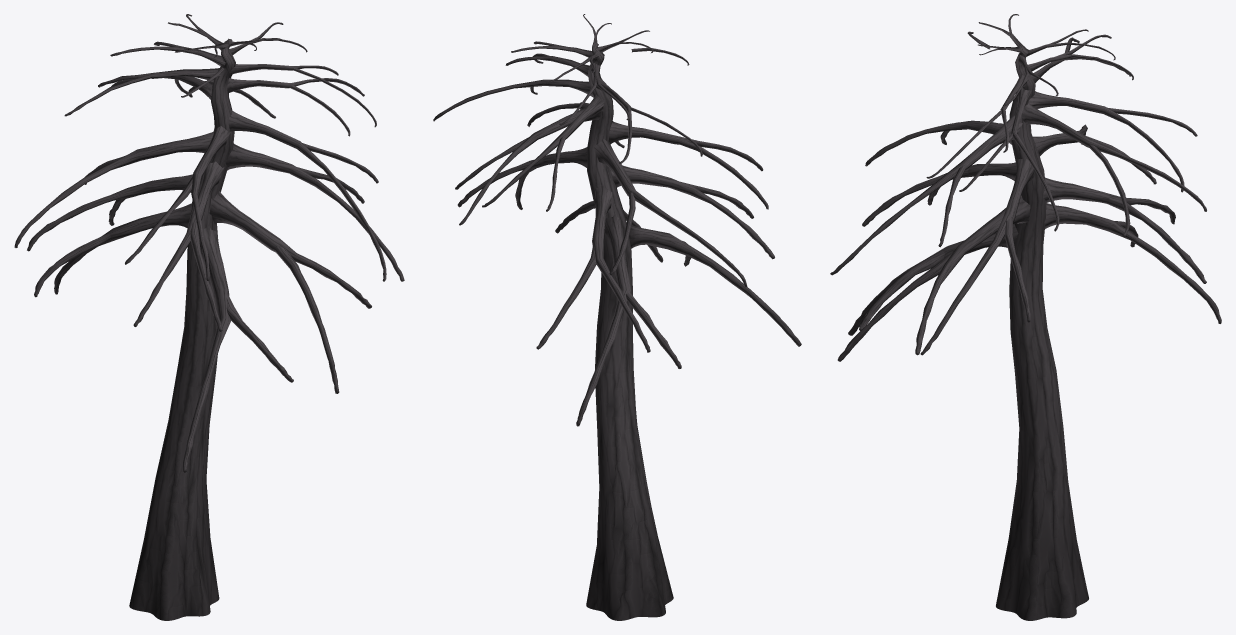
The model's file is Dead_Tree_5.gltf.
3 views of the same model, side by side, from view 1: azimuth 30°, elevation 25°; view 2: azimuth 150°, elevation 25°; view 3: azimuth 270°, elevation 25° (orthographic). The views are drawn at different scales.
Parts seen in each view (by area): view 1: DeadTree_4; view 2: DeadTree_4; view 3: DeadTree_4.
Part boxes in pixels (<box>): DeadTree_4: <box>14,14,404,620</box>; DeadTree_4: <box>433,14,801,620</box>; DeadTree_4: <box>830,14,1221,620</box>.
Bounding box in the file's own units: 7.96 × 12.77 × 7.73.
Materials: 1 (1 with a texture image).
